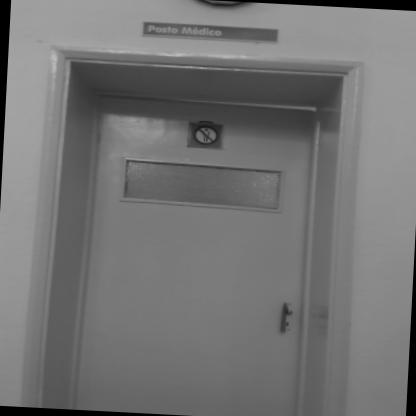closed: (18, 40, 394, 416)
